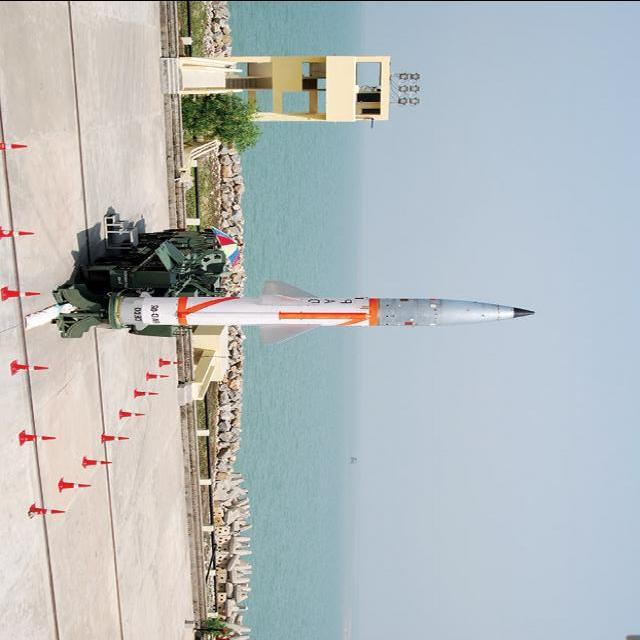Missile: (107, 287, 542, 330)
